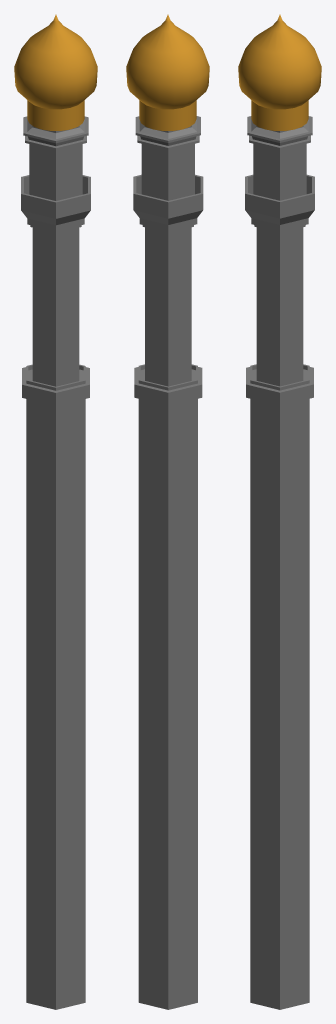
The model's file is SM_minaret_02.fbx.
3 renders of one model, left to right at view 1: azimuth 90°, elevation 25°; view 2: azimuth 210°, elevation 25°; view 3: azimuth 270°, elevation 25°, orthographic.
Visible parts, largest first — view 1: Cylinder049; view 2: Cylinder049; view 3: Cylinder049.
Boxes of the visible parts, x1,y1,x2,y2 form: Cylinder049: (14, 14, 97, 1009); Cylinder049: (126, 14, 209, 1009); Cylinder049: (238, 14, 321, 1009).
Bounding box in the file's own units: 59.13 × 60.04 × 777.
